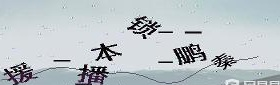chinese: (90, 40, 120, 64), (129, 15, 158, 39), (176, 43, 206, 66), (79, 65, 106, 85), (212, 52, 235, 74), (7, 65, 31, 85)
